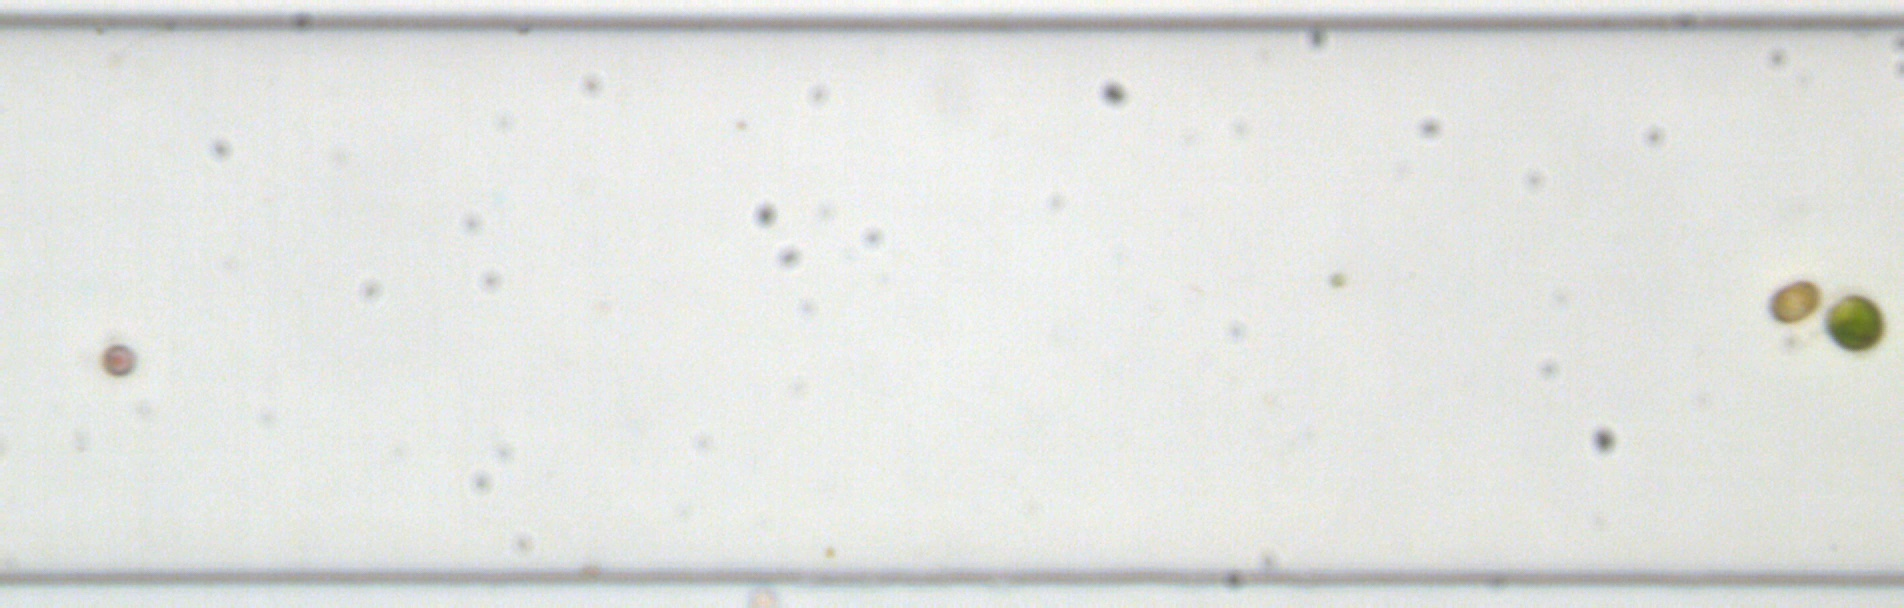Chlorella: (1327, 267, 1347, 289)
Effrenium: (1766, 273, 1821, 329)
Platymonas: (1821, 292, 1885, 354)
Porphyridium: (100, 341, 136, 377)
